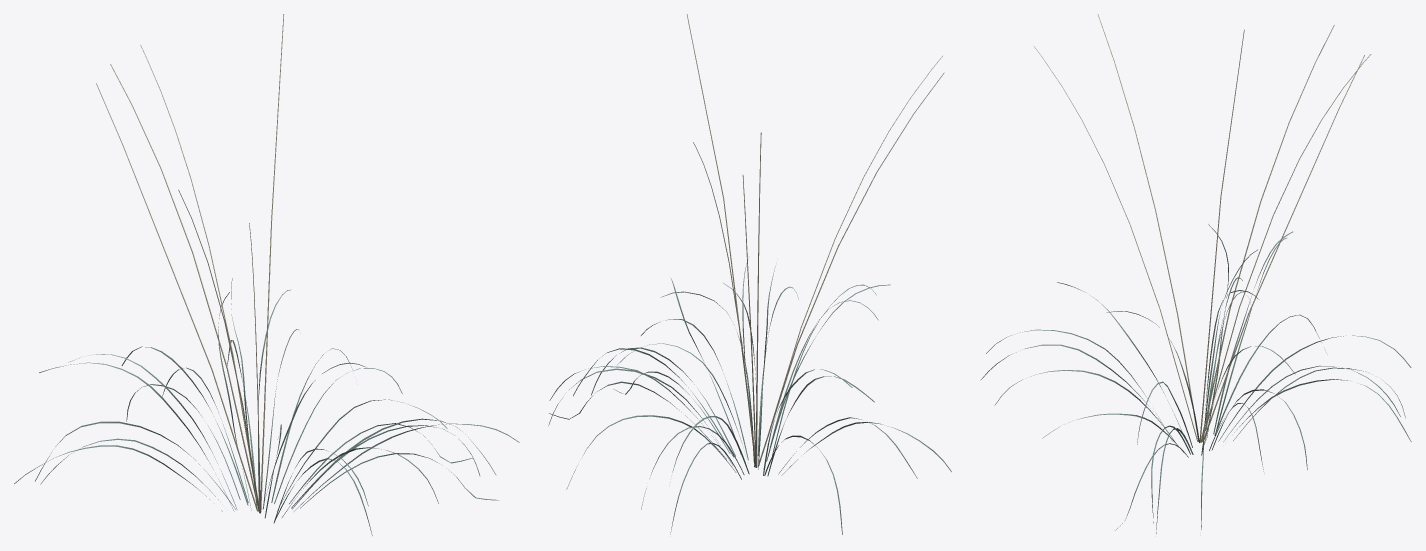
Rendered from Blue Oat Grass A.glb.
3 renders of one model, left to right at view 1: azimuth 30°, elevation 25°; view 2: azimuth 150°, elevation 25°; view 3: azimuth 270°, elevation 25°, orthographic. The views are drawn at different scales.
Visible parts, largest first — view 1: Blue Oat Grass A; view 2: Blue Oat Grass A; view 3: Blue Oat Grass A.
Part boxes in pixels (box(x1,y1,x2,y2)): Blue Oat Grass A: box(14, 14, 519, 535); Blue Oat Grass A: box(548, 14, 951, 534); Blue Oat Grass A: box(980, 14, 1411, 533).
Size of the model in its own units: 0.9556 by 0.9844 by 0.8844.
